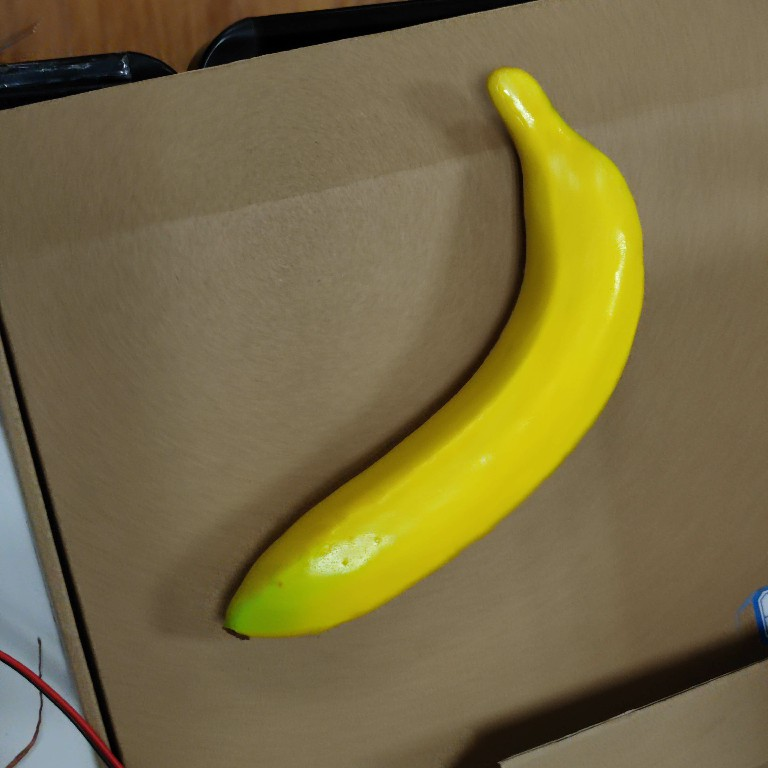fruit_banana: (215, 60, 649, 652)
